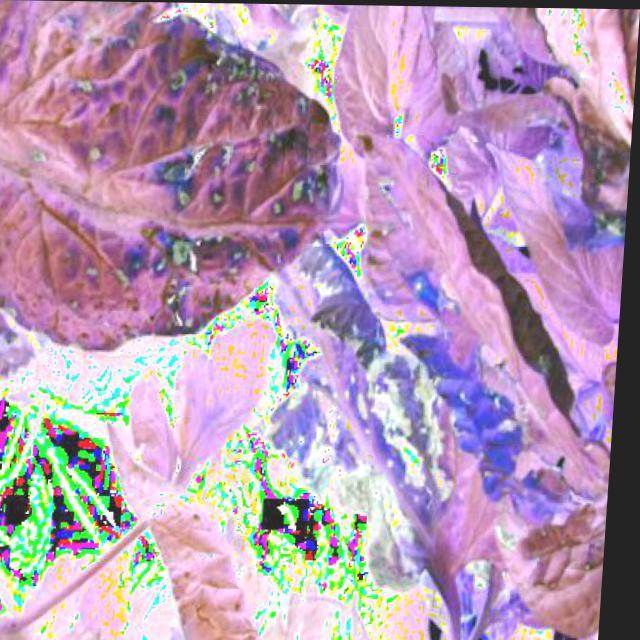Tomato Early blight leaf: (0, 14, 359, 354)
